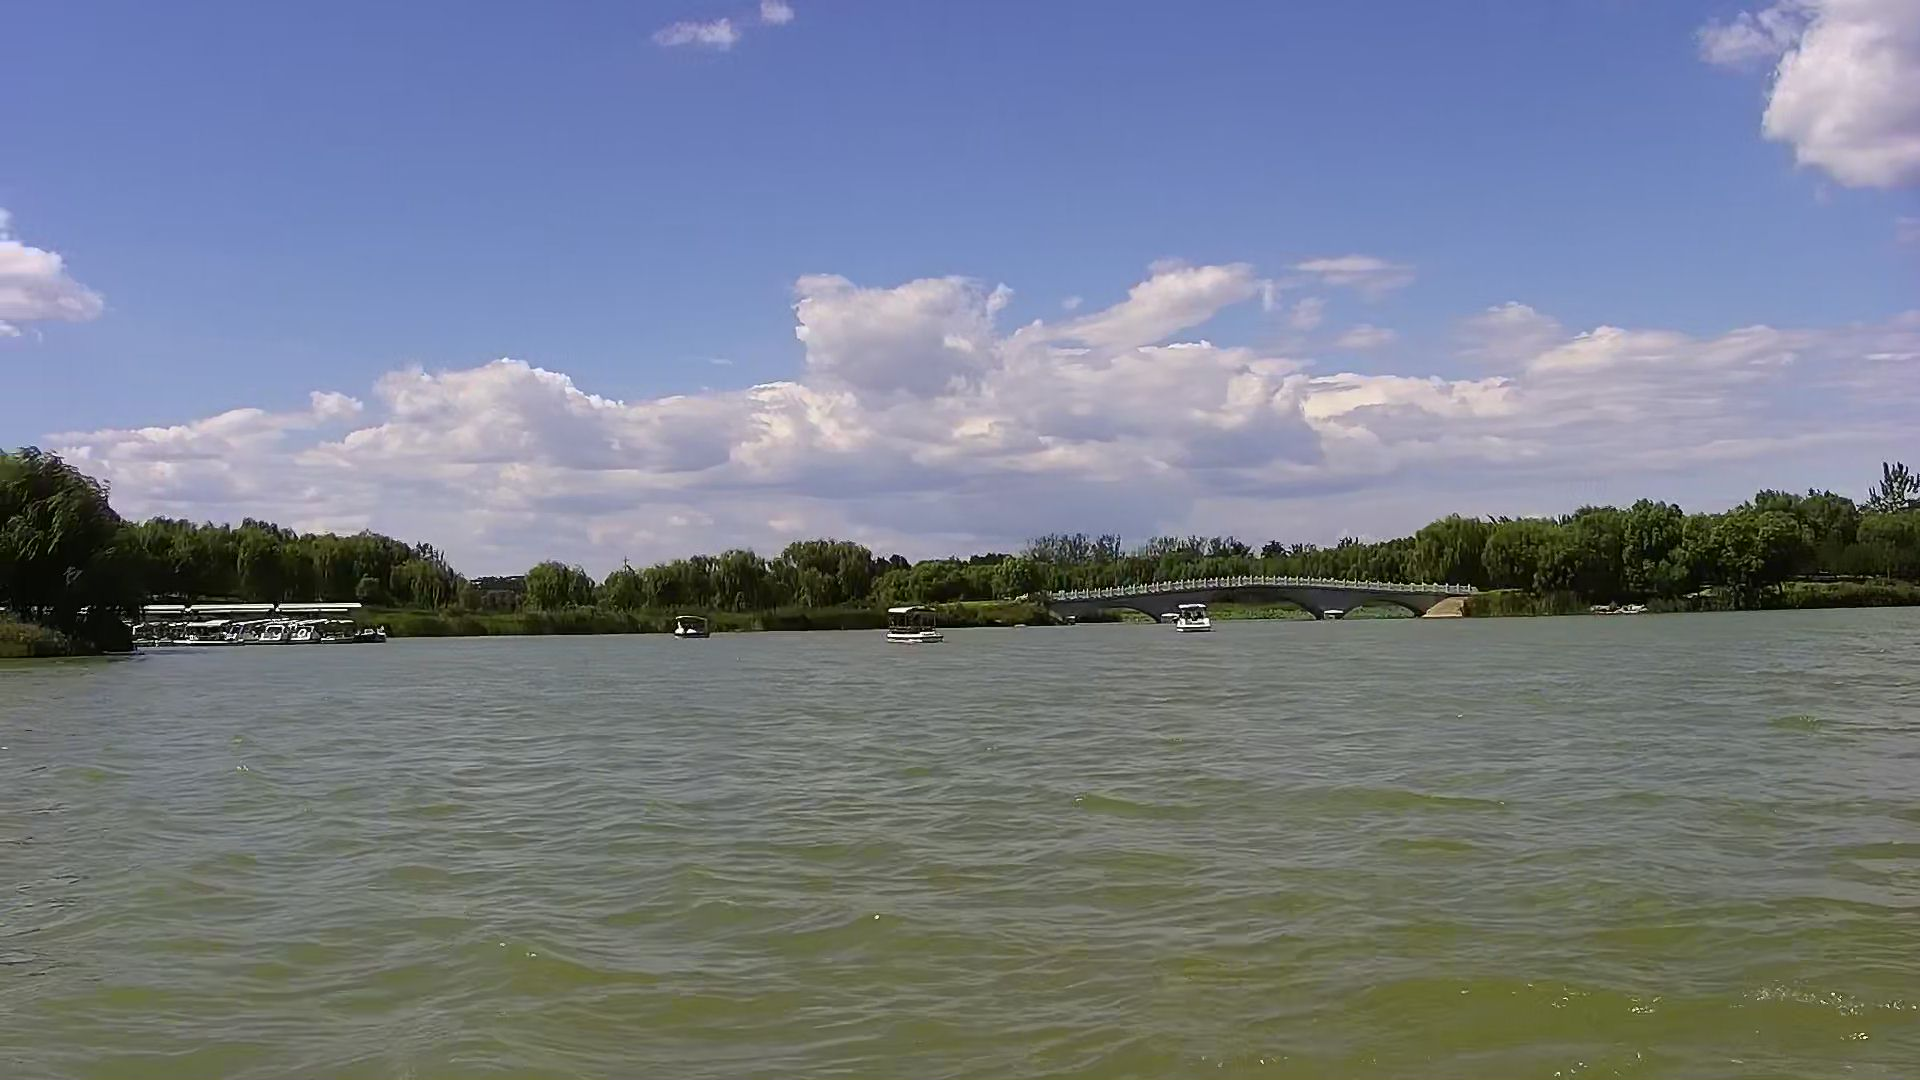boat: (881, 603, 953, 650), (1174, 600, 1221, 638), (669, 611, 721, 638)
bridge: (1044, 574, 1489, 618)
